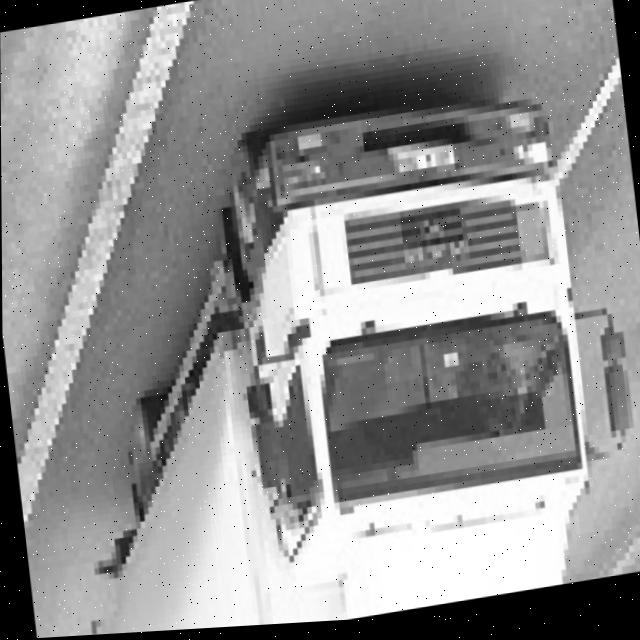truck: (187, 63, 640, 612)
